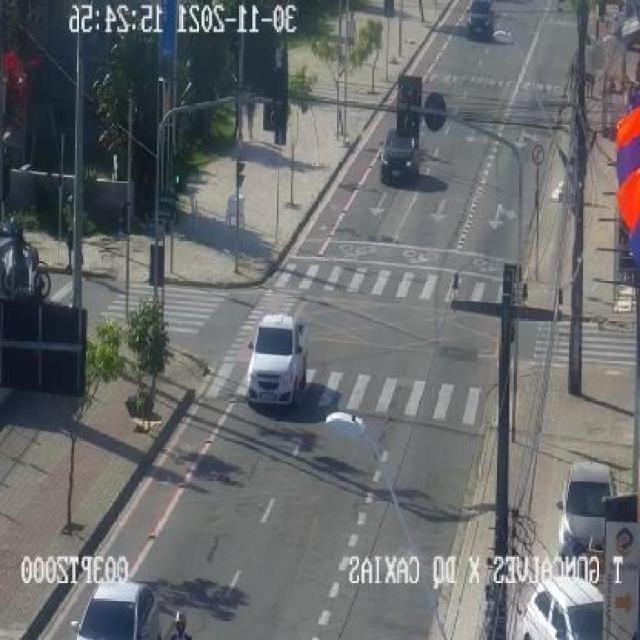Car: (245, 316, 308, 409), (558, 462, 616, 554), (526, 575, 608, 640), (72, 582, 161, 640), (379, 128, 419, 183), (466, 0, 494, 40)
Cycle: (0, 246, 52, 299)
